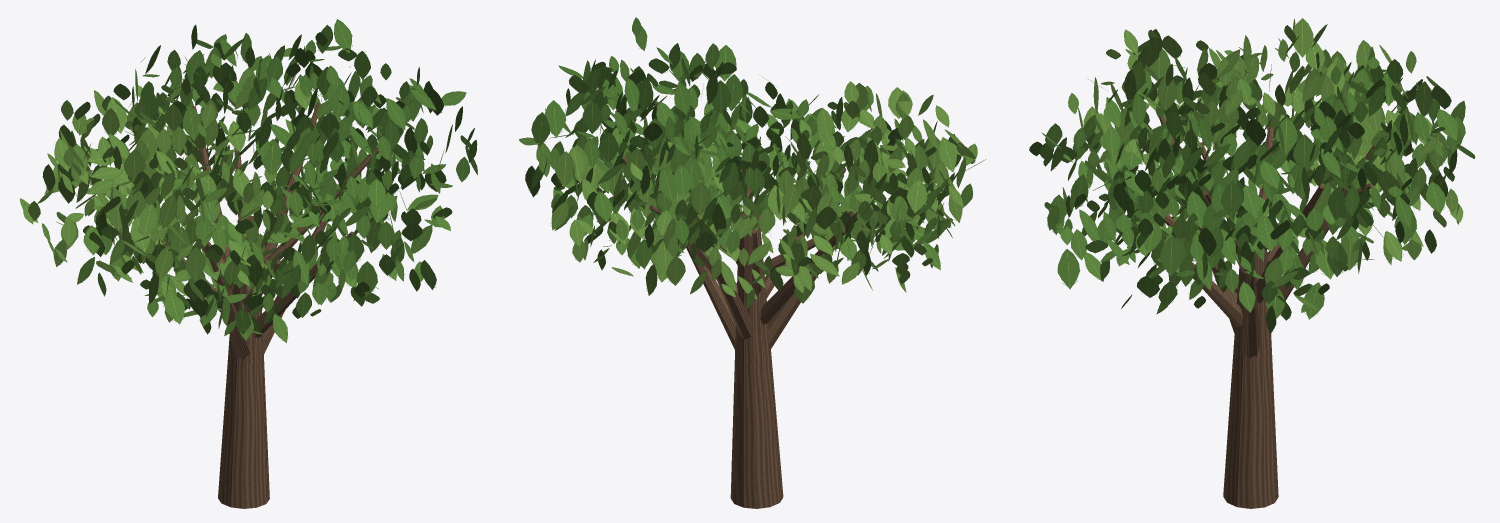
The model's file is oak.glb.
3 views of the same model, side by side, from view 1: azimuth 30°, elevation 25°; view 2: azimuth 150°, elevation 25°; view 3: azimuth 270°, elevation 25° (orthographic). The views are drawn at different scales.
Visible parts, largest first — view 1: Original textured oak; view 2: Original textured oak; view 3: Original textured oak.
Boxes of the visible parts, x1,y1,x2,y2 form: Original textured oak: [19, 19, 477, 508]; Original textured oak: [519, 17, 985, 508]; Original textured oak: [1029, 18, 1475, 508].
Size of the model in its own units: 4.2 by 4.12 by 3.82.
Materials: 4 (4 with a texture image).
